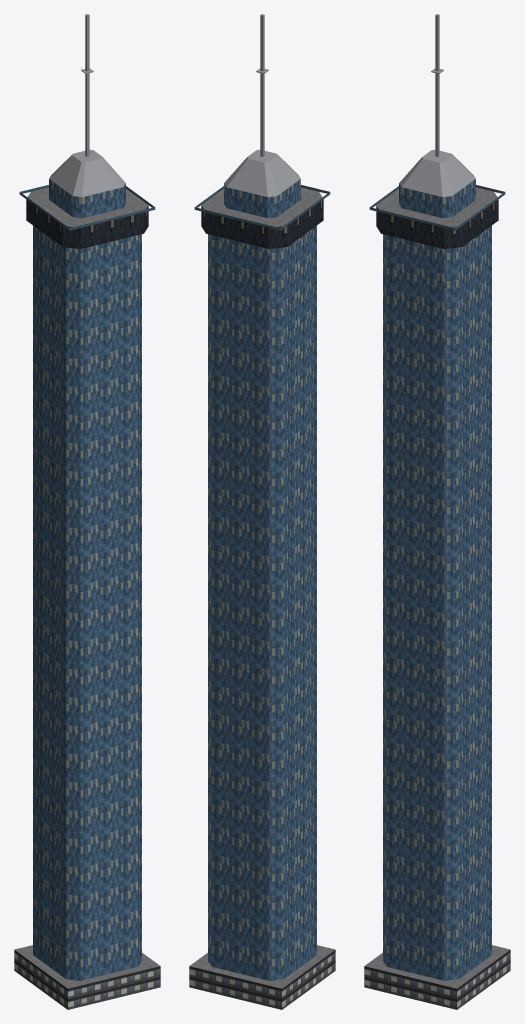
The model's file is 097_observation_tower.glb.
3 views of the same model, side by side, from view 1: azimuth 30°, elevation 25°; view 2: azimuth 150°, elevation 25°; view 3: azimuth 330°, elevation 25° (orthographic).
Visible parts, largest first — view 1: 097_observation_tower; view 2: 097_observation_tower; view 3: 097_observation_tower.
Part boxes in pixels (x1,y1,x2,y2): 097_observation_tower: [14, 14, 160, 1009]; 097_observation_tower: [189, 14, 335, 1009]; 097_observation_tower: [364, 14, 510, 1009].
Bounding box in the file's own units: 55 × 546 × 55.
Materials: 6 (4 with a texture image).
